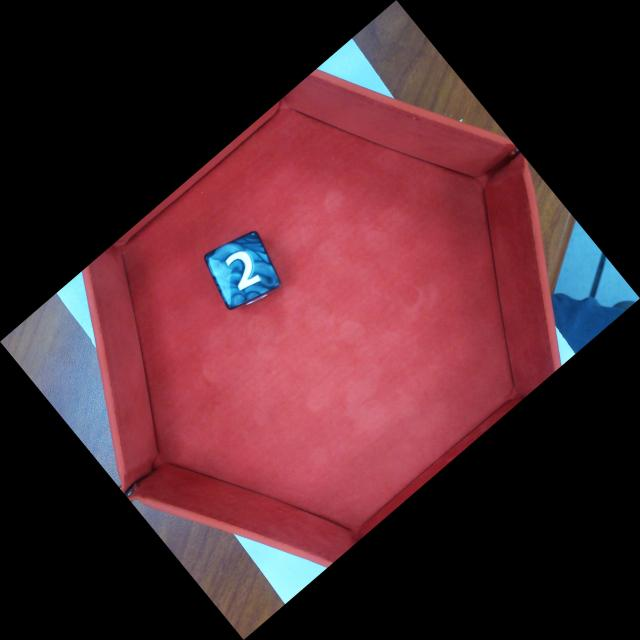dice: (201, 229, 283, 313)
